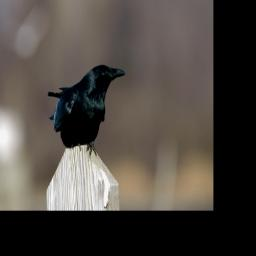Crow: (48, 65, 125, 156)
